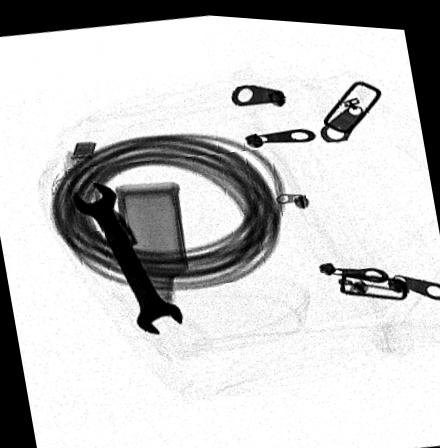Wrench: (71, 177, 185, 331)
